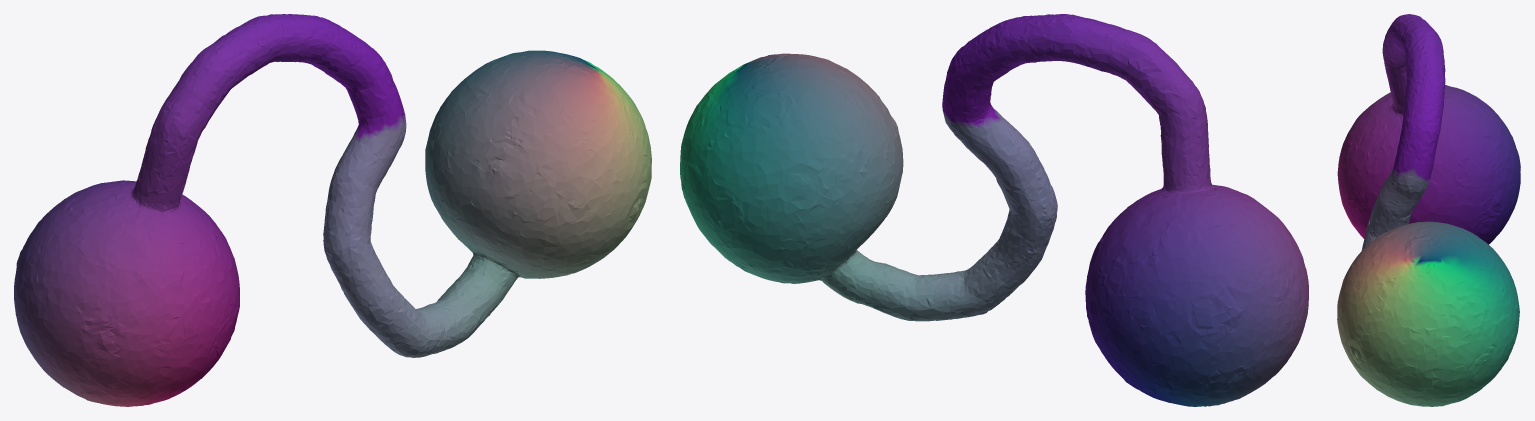
Rendered from twoballs-5.off.obj.
The picture shows the model from 3 angles, left to right: view 1: azimuth 30°, elevation 25°; view 2: azimuth 150°, elevation 25°; view 3: azimuth 270°, elevation 25°; orthographic projection. The views are drawn at different scales.
Size of the model in its own units: 1.79 by 1.01 by 0.581.
